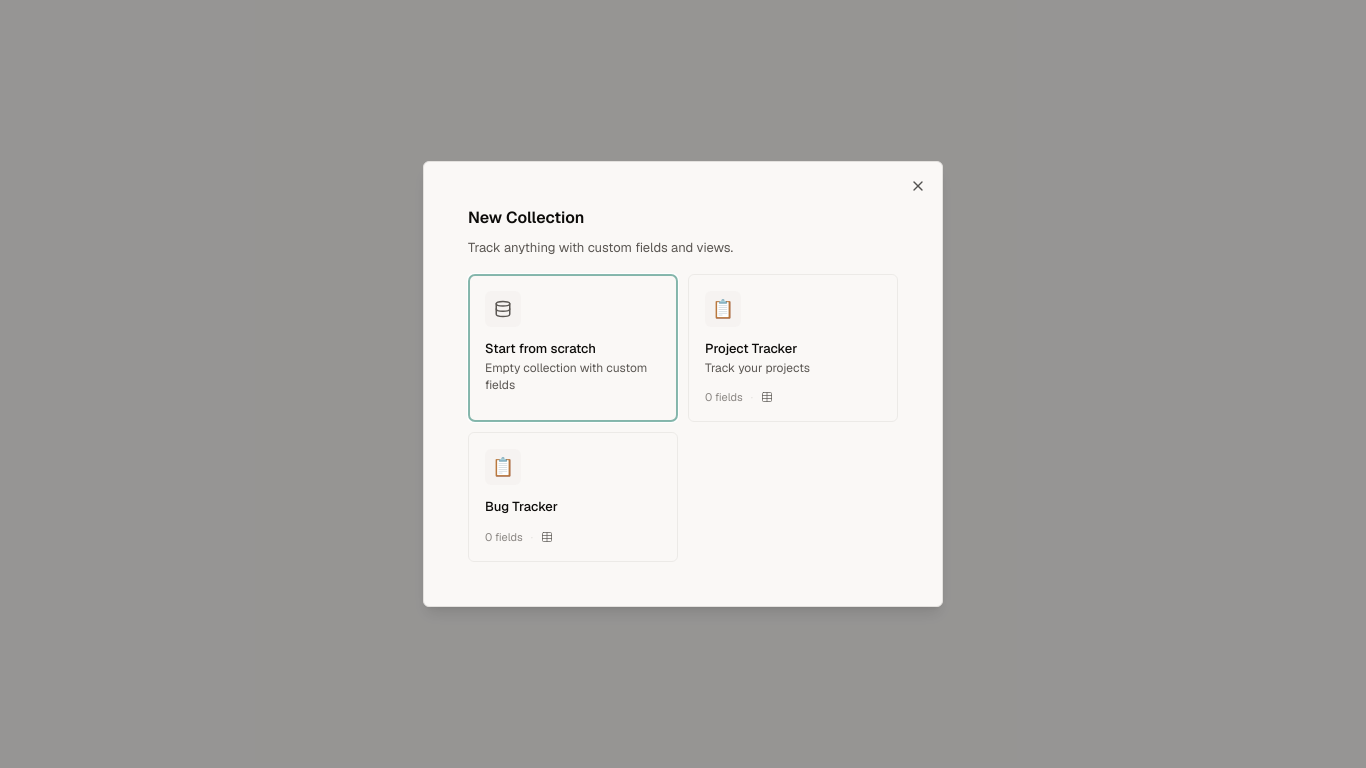
Test case: CollectionCreateDialog › navigates to name step when blank card is clicked
Click the text "Start from scratch" at (540, 348), box [485,340,596,356]
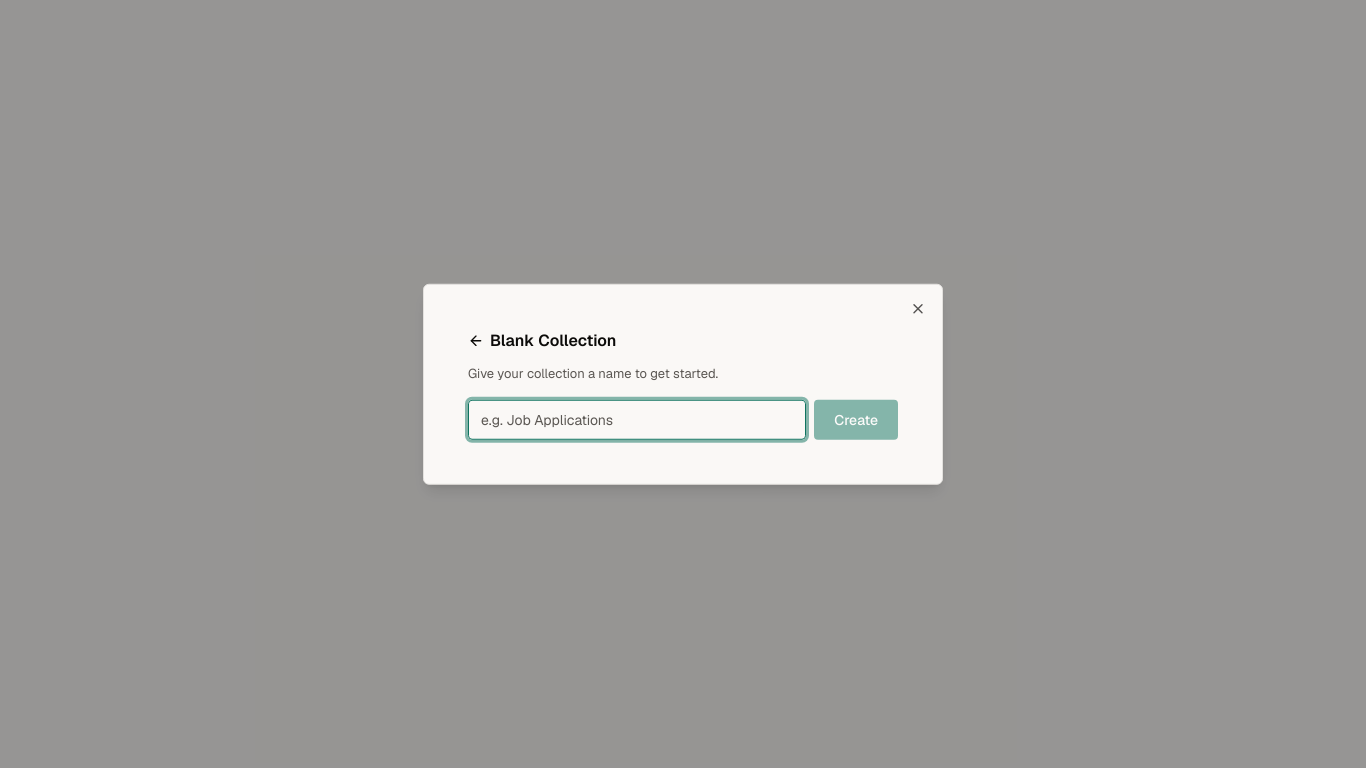
Result: the field with placeholder "e.g. Job Applications" is shown at [468,399,806,439]
Result: the button "Create" is shown at [814,399,898,439]
